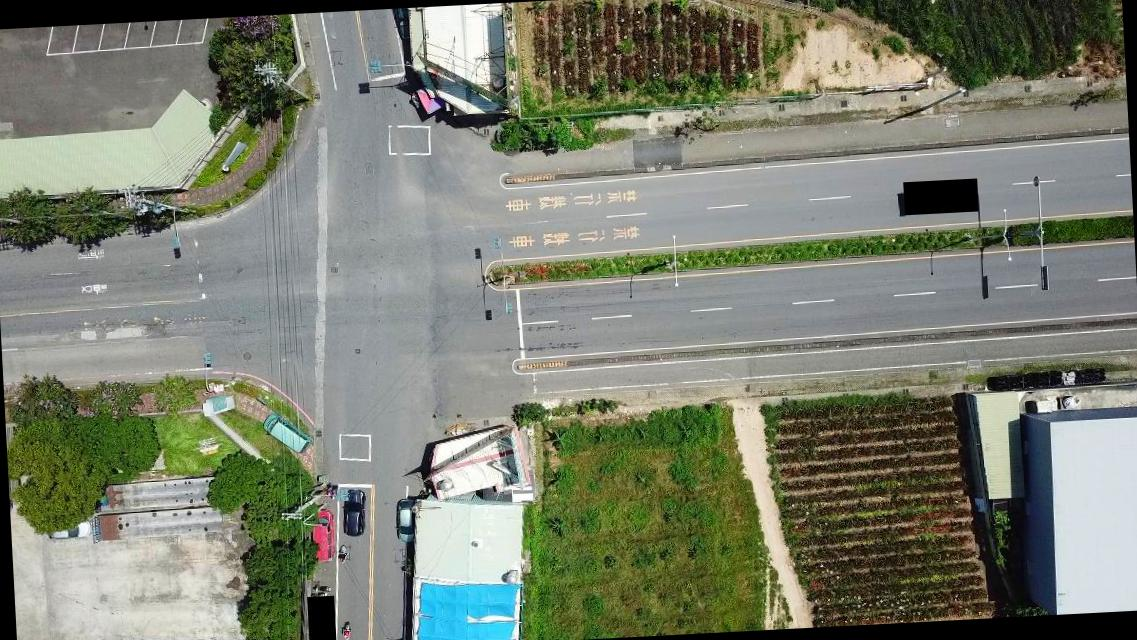vehicle: (262, 413, 310, 459), (308, 509, 339, 564), (342, 487, 370, 537), (396, 499, 424, 543), (42, 518, 91, 540), (396, 8, 409, 43)
